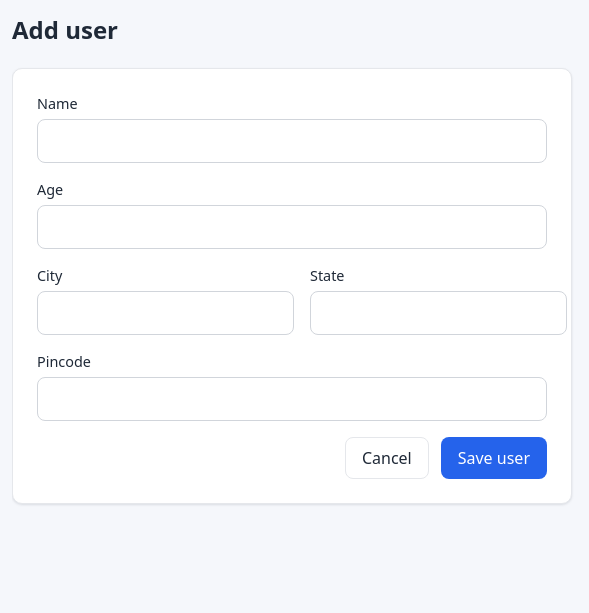
Test: AddUserPage › shows server-side validation errors inline and stays on the page
Type "Jane Doe" into the field labelled "Name" at (292, 141), box [37,119,547,163]
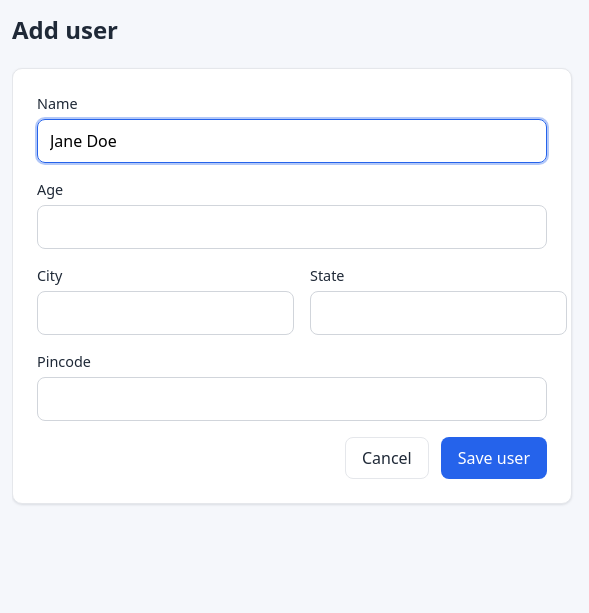
Type "30" into the number field labelled "Age" at (292, 227), box [37,205,547,249]
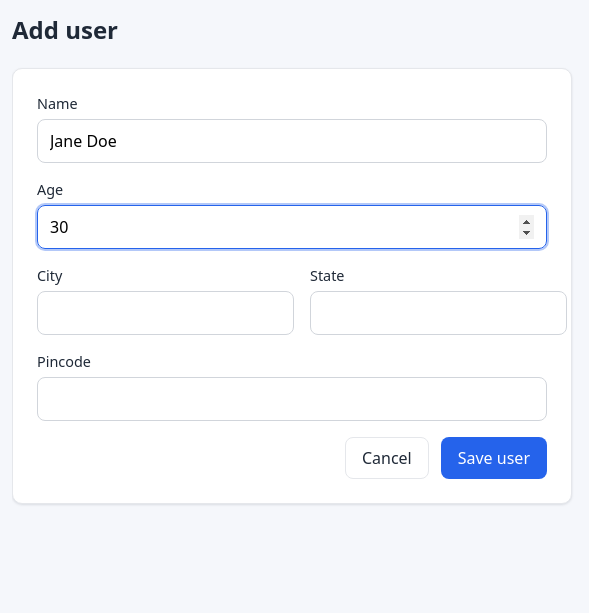
Type "Mumbai" into the field labelled "City" at (166, 313), box [37,291,294,335]
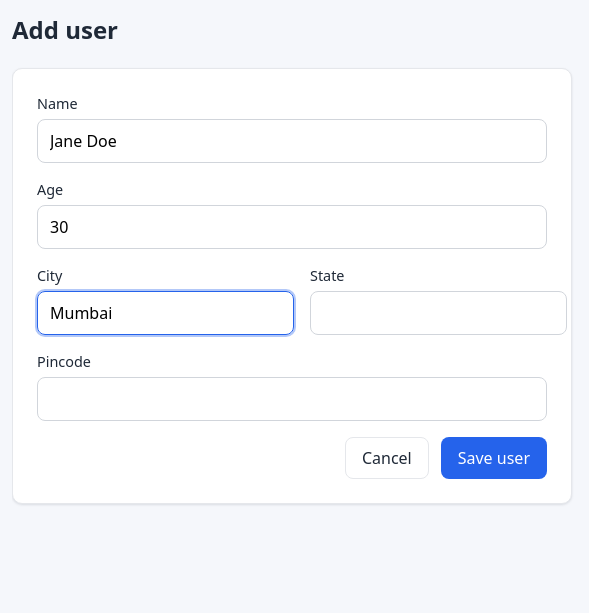
Type "Maharashtra" into the field labelled "State" at (438, 313), box [310,291,567,335]
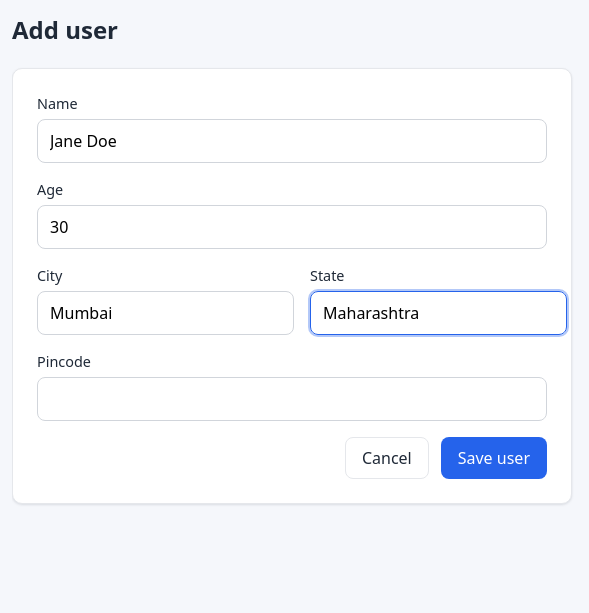
Type "400001" into the field labelled "Pincode" at (292, 399), box [37,377,547,421]
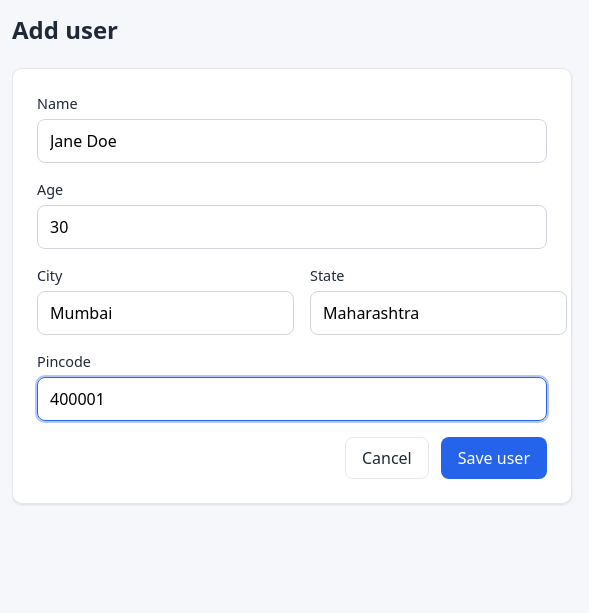
Click the button "Save user" at (494, 458), box [441,437,547,479]
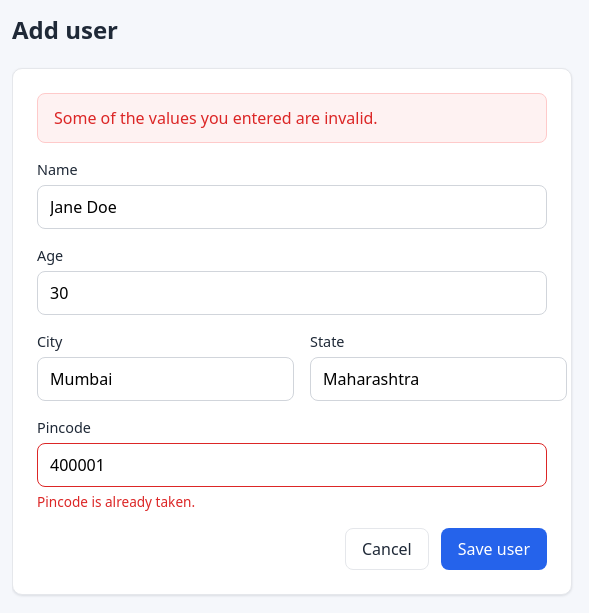
Expected: the button "Save user" is enabled, [441,528,547,570]
Expected: the message reads "Some of the values you entered are invalid.", [54,107,378,129]
Expected: the text "Pincode is already taken." is shown, [37,492,195,511]
